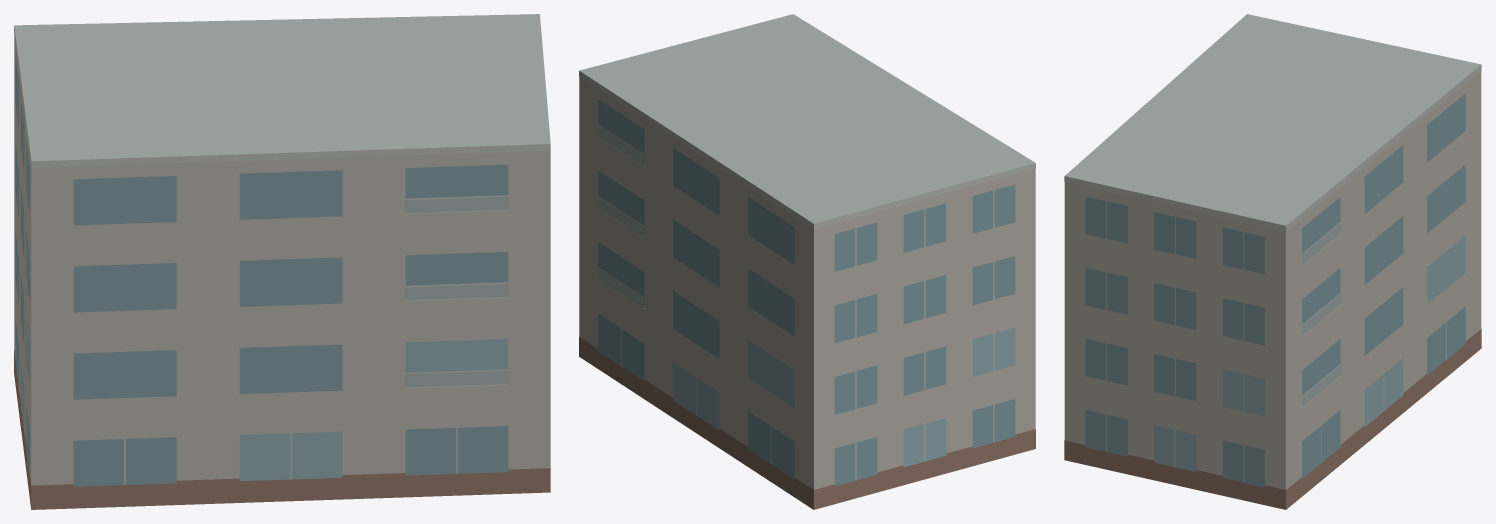
Rendered from survey-upis-32885217.glb.
3 renders of one model, left to right at view 1: azimuth 30°, elevation 25°; view 2: azimuth 150°, elevation 25°; view 3: azimuth 270°, elevation 25°, orthographic. The views are drawn at different scales.
Parts seen in each view (by area): view 1: survey-upis-32885217.tmp; view 2: survey-upis-32885217.tmp; view 3: survey-upis-32885217.tmp.
Boxes of the visible parts, x1,y1,x2,y2 form: survey-upis-32885217.tmp: (14, 14, 550, 509); survey-upis-32885217.tmp: (579, 14, 1035, 509); survey-upis-32885217.tmp: (1064, 14, 1481, 509).
Bounding box in the file's own units: 19.84 × 12.4 × 16.5.
